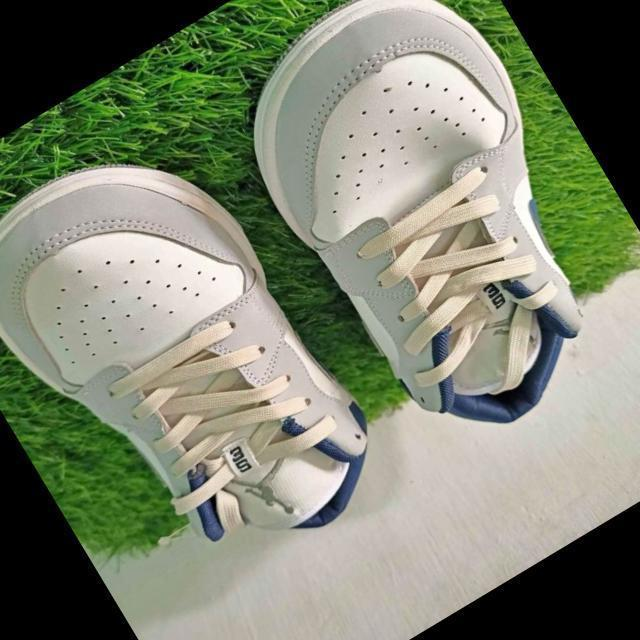nike fake jordan 1: (0, 98, 410, 627), (203, 0, 640, 472)
